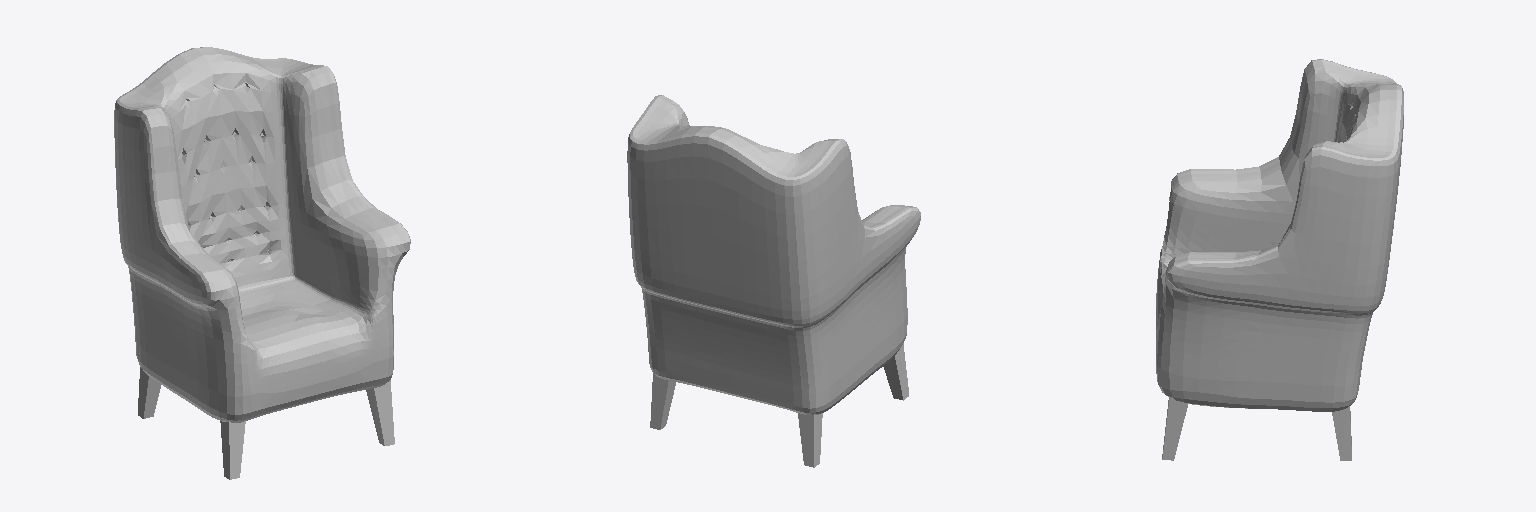
File: Sessel.obj
The picture shows the model from 3 angles: view 1: azimuth 30°, elevation 25°; view 2: azimuth 150°, elevation 25°; view 3: azimuth 270°, elevation 25°; orthographic projection.
Visible parts, largest first — view 1: Sessel Assets; view 2: Sessel Assets; view 3: Sessel Assets.
Boxes of the visible parts, box(x1,y1,x2,y2) form: Sessel Assets: box(114, 47, 410, 479); Sessel Assets: box(627, 95, 920, 467); Sessel Assets: box(1156, 59, 1403, 460).
Bounding box in the file's own units: 1.26 × 1.95 × 1.33.